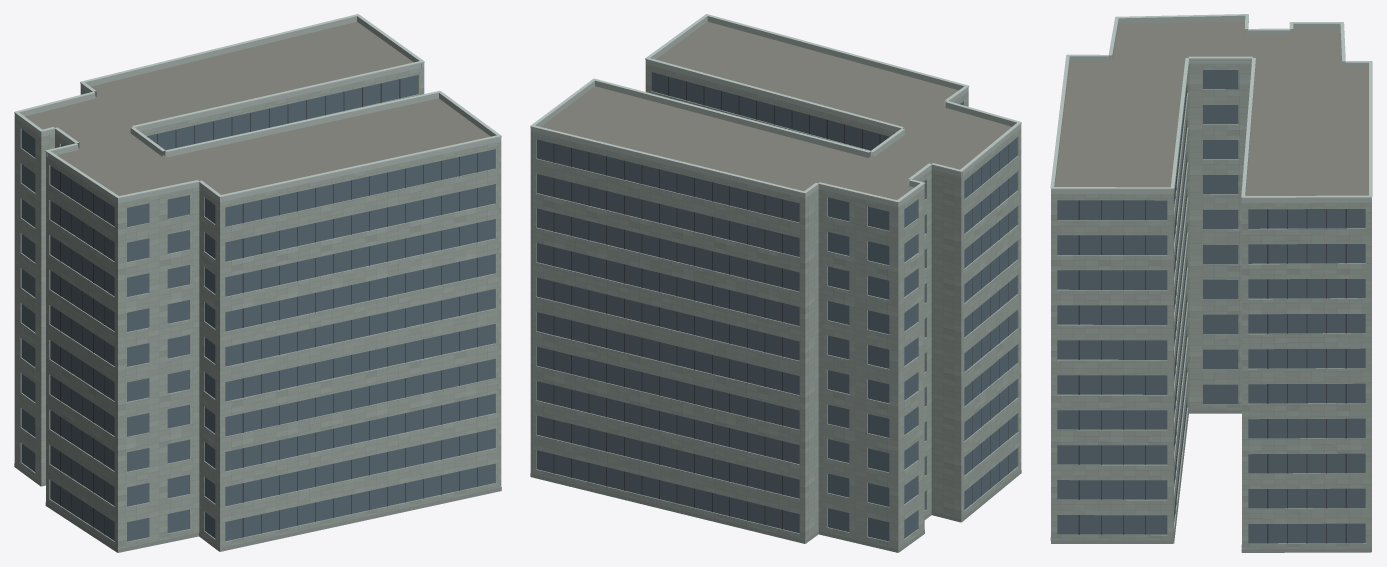
The picture shows the model from 3 angles, left to right: view 1: azimuth 30°, elevation 25°; view 2: azimuth 150°, elevation 25°; view 3: azimuth 270°, elevation 25°; orthographic projection.
Parts seen in each view (by area): view 1: eng3__wall, eng3__glass, eng3__roof, eng3__parapet, eng3__trim, eng3__frame, eng3__base; view 2: eng3__wall, eng3__glass, eng3__roof, eng3__parapet, eng3__frame, eng3__trim, eng3__base; view 3: eng3__wall, eng3__glass, eng3__roof, eng3__trim, eng3__parapet, eng3__frame, eng3__base.
Part boxes in pixels (<box>): eng3__wall: <box>14,67,501,552</box>; eng3__glass: <box>21,75,494,541</box>; eng3__roof: <box>25,21,490,195</box>; eng3__parapet: <box>14,16,501,203</box>; eng3__trim: <box>14,14,501,198</box>; eng3__frame: <box>60,79,477,537</box>; eng3__base: <box>14,463,501,552</box>; eng3__wall: <box>530,64,1021,552</box>; eng3__glass: <box>536,72,1017,541</box>; eng3__roof: <box>541,21,1011,199</box>; eng3__parapet: <box>530,16,1021,207</box>; eng3__frame: <box>553,76,1008,529</box>; eng3__trim: <box>530,14,1021,202</box>; eng3__base: <box>530,470,1021,552</box>; eng3__wall: <box>1051,63,1371,549</box>; eng3__glass: <box>1057,70,1365,543</box>; eng3__roof: <box>1055,21,1368,195</box>; eng3__trim: <box>1050,14,1372,198</box>; eng3__parapet: <box>1051,15,1371,202</box>; eng3__frame: <box>1078,176,1346,543</box>; eng3__base: <box>1050,409,1371,552</box>.
Bounding box in the file's own units: 41.68 × 37.6 × 30.92.
Materials: 7 (1 with a texture image).
